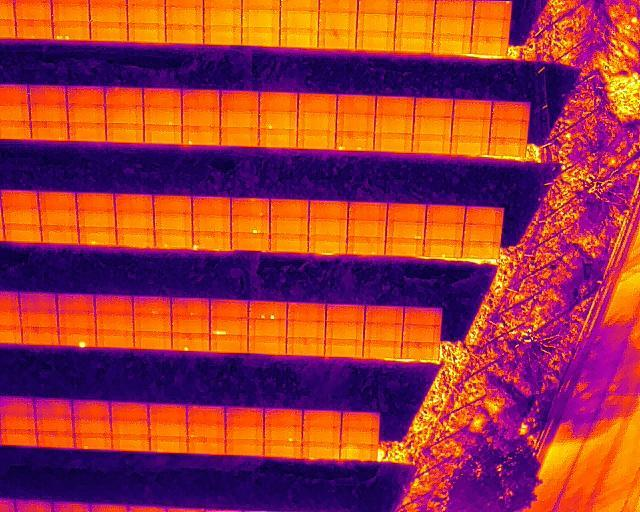Cell: (474, 0, 511, 19), (143, 107, 182, 125), (259, 112, 298, 130), (231, 216, 270, 234), (183, 128, 221, 146), (172, 334, 210, 352), (422, 240, 461, 257), (264, 426, 303, 442), (60, 330, 96, 347), (192, 233, 230, 249)
Cell-Multi: (335, 132, 375, 151), (248, 302, 287, 320), (53, 21, 90, 39), (387, 223, 425, 239)
No-Anomaly: (90, 0, 127, 22), (298, 93, 338, 113), (182, 90, 220, 111), (221, 91, 260, 111), (337, 95, 376, 115), (127, 4, 166, 24), (149, 403, 188, 423), (413, 99, 454, 118), (52, 0, 90, 20), (298, 112, 338, 131), (144, 125, 182, 145), (204, 7, 242, 27), (20, 292, 58, 312), (90, 22, 128, 42), (242, 27, 280, 47), (357, 31, 395, 51), (59, 294, 95, 315), (30, 121, 69, 140), (259, 129, 298, 148), (117, 228, 156, 247), (434, 17, 473, 36), (95, 295, 134, 314), (287, 321, 326, 340), (318, 29, 357, 48), (14, 0, 53, 19), (66, 87, 105, 106), (492, 102, 529, 122), (491, 120, 528, 140), (453, 119, 491, 138), (106, 124, 144, 143), (166, 5, 204, 24), (280, 10, 318, 29), (1, 190, 39, 209), (309, 218, 347, 237), (15, 20, 53, 39), (172, 298, 210, 317), (133, 315, 171, 334), (364, 323, 402, 342), (211, 335, 249, 354), (280, 30, 318, 49), (36, 398, 74, 417), (73, 400, 111, 419), (226, 406, 264, 425), (395, 33, 433, 52), (433, 36, 471, 55), (453, 101, 493, 119), (67, 105, 107, 123), (309, 200, 349, 218), (376, 97, 413, 116), (166, 24, 203, 43), (29, 86, 66, 105), (259, 93, 298, 111), (413, 118, 452, 136), (374, 134, 413, 152), (39, 192, 78, 210), (348, 202, 387, 220), (388, 205, 427, 223), (348, 220, 387, 238), (231, 233, 270, 251), (132, 297, 171, 315), (287, 338, 326, 356), (264, 441, 303, 459), (143, 88, 182, 106), (106, 106, 144, 124), (221, 111, 259, 129), (375, 116, 413, 134), (69, 124, 107, 142), (298, 131, 336, 149), (242, 10, 280, 28), (77, 193, 115, 211), (271, 200, 309, 218), (465, 207, 503, 225), (357, 13, 395, 31), (155, 213, 193, 231), (210, 300, 248, 318), (366, 305, 404, 323), (249, 320, 287, 338), (326, 321, 364, 339), (325, 340, 363, 358), (0, 397, 36, 416), (111, 402, 149, 420), (188, 406, 226, 424), (105, 88, 143, 106), (230, 199, 270, 216), (127, 24, 167, 41), (155, 230, 192, 248), (150, 437, 187, 455), (472, 37, 509, 55), (337, 114, 376, 131), (413, 136, 452, 153), (116, 211, 155, 228), (270, 218, 309, 235), (425, 224, 464, 241), (463, 224, 502, 241), (3, 225, 42, 242), (308, 238, 347, 255), (327, 305, 366, 322), (171, 317, 210, 334), (134, 332, 173, 349), (248, 338, 287, 355), (203, 27, 242, 44), (363, 342, 402, 359), (264, 409, 303, 426), (435, 0, 474, 17), (489, 139, 525, 157), (473, 19, 509, 37), (182, 111, 220, 128), (221, 129, 259, 146), (451, 138, 489, 155), (154, 197, 192, 214), (193, 198, 231, 215), (427, 206, 465, 223), (40, 209, 78, 226), (193, 215, 231, 232), (80, 227, 118, 244), (395, 16, 433, 33), (270, 235, 308, 252), (385, 239, 423, 256), (289, 303, 327, 320), (96, 314, 134, 331), (22, 328, 60, 345), (96, 330, 134, 347), (1, 209, 41, 225), (347, 237, 384, 254), (462, 240, 499, 257), (404, 308, 441, 325), (402, 325, 439, 342), (318, 13, 357, 29), (21, 313, 60, 329), (37, 432, 76, 448), (225, 440, 264, 456), (402, 342, 438, 359), (30, 105, 68, 121), (116, 195, 154, 211), (78, 211, 116, 227), (42, 226, 80, 242), (58, 315, 96, 331), (304, 411, 342, 427), (341, 413, 379, 429), (111, 420, 149, 436), (112, 436, 150, 452), (188, 438, 226, 454), (303, 443, 341, 459), (342, 430, 379, 446), (0, 430, 37, 446), (341, 445, 378, 461), (73, 419, 112, 434), (148, 423, 187, 438), (76, 434, 112, 450), (0, 121, 30, 140), (187, 424, 225, 439), (226, 425, 264, 440), (303, 427, 341, 442), (37, 417, 73, 432), (0, 104, 31, 121), (0, 416, 37, 430), (0, 87, 29, 104), (0, 292, 20, 311), (0, 328, 23, 344), (0, 311, 22, 327)
Unclassified: (210, 318, 248, 335)
